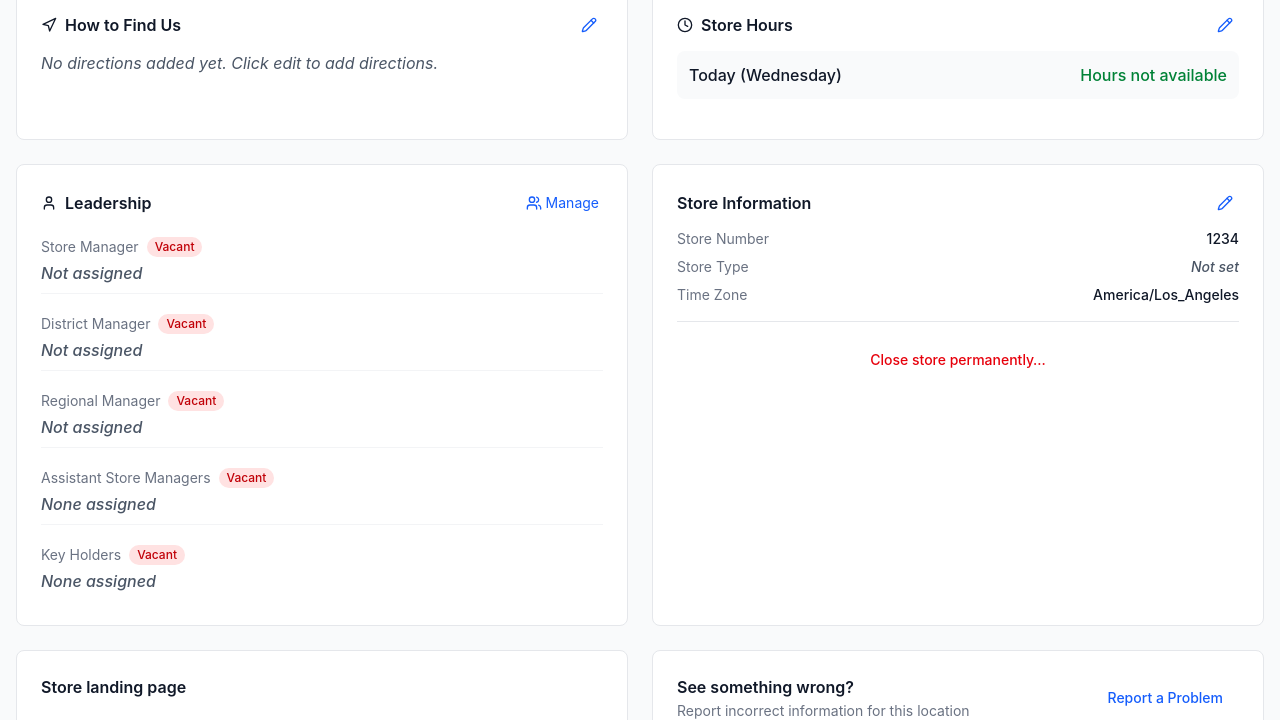
LocationDetailView close and restore › shows Steward wording
This screenshot has width=1280, height=720.
(page scrolled)
Click the button "Close store permanently…".
click(958, 360)  # box [677, 338, 1239, 382]
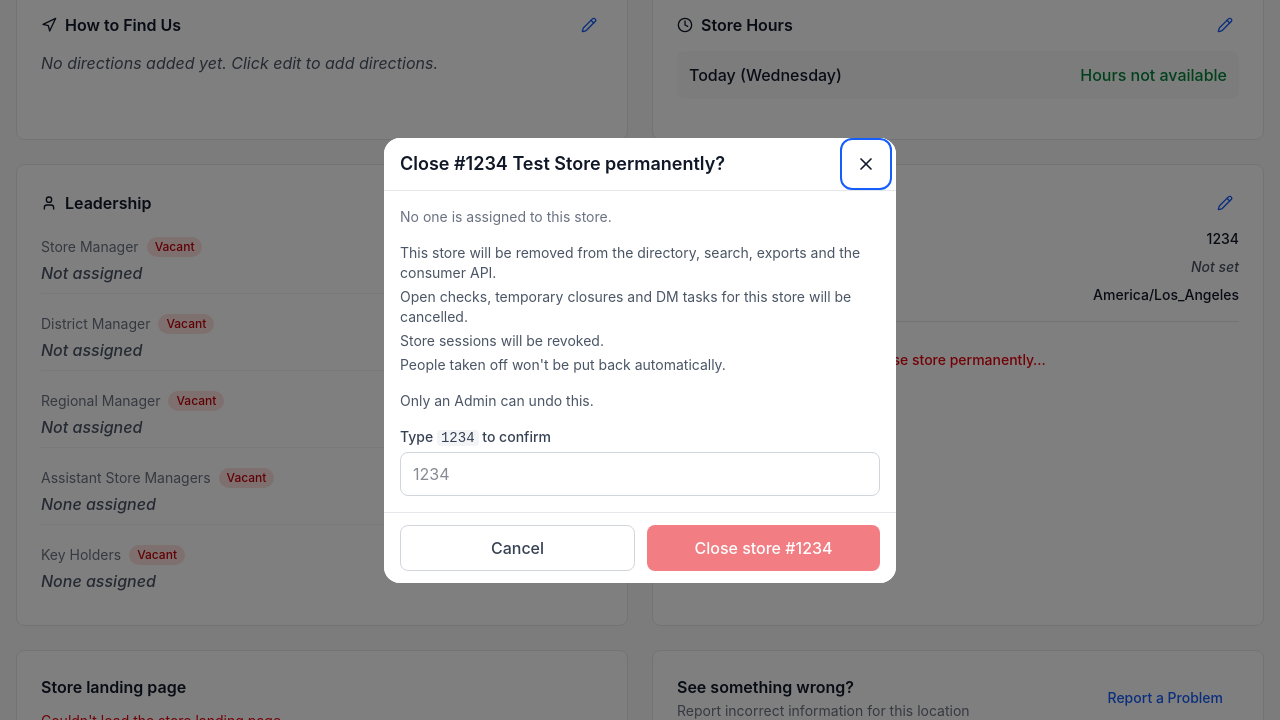
Expected: the dialog is shown, [384, 138, 896, 582]
Expected: the text "Only an Admin can undo this." is shown, [400, 392, 594, 408]
Expected: the text "People taken off won't be put back automatically." is shown once, [400, 356, 726, 372]
